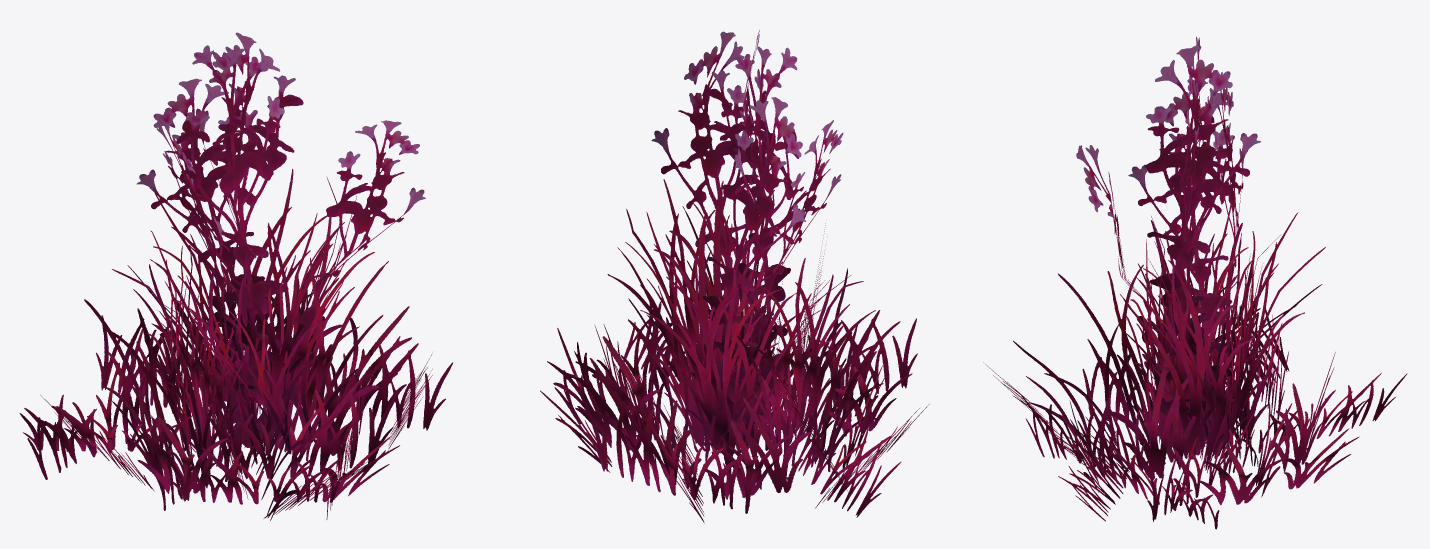
3 renders of one model, left to right at view 1: azimuth 30°, elevation 25°; view 2: azimuth 150°, elevation 25°; view 3: azimuth 270°, elevation 25°, orthographic. The views are drawn at different scales.
Parts seen in each view (by area): view 1: SM_GF_GrassLong_04_LOD0; view 2: SM_GF_GrassLong_04_LOD0; view 3: SM_GF_GrassLong_04_LOD0.
Part boxes in pixels (box(x1,y1,x2,y2)): SM_GF_GrassLong_04_LOD0: box(19, 32, 452, 520); SM_GF_GrassLong_04_LOD0: box(540, 30, 929, 523); SM_GF_GrassLong_04_LOD0: box(983, 36, 1407, 529).
Bounding box in the file's own units: 0.9126 × 1.02 × 0.9146.
1 material, 1 textured.
